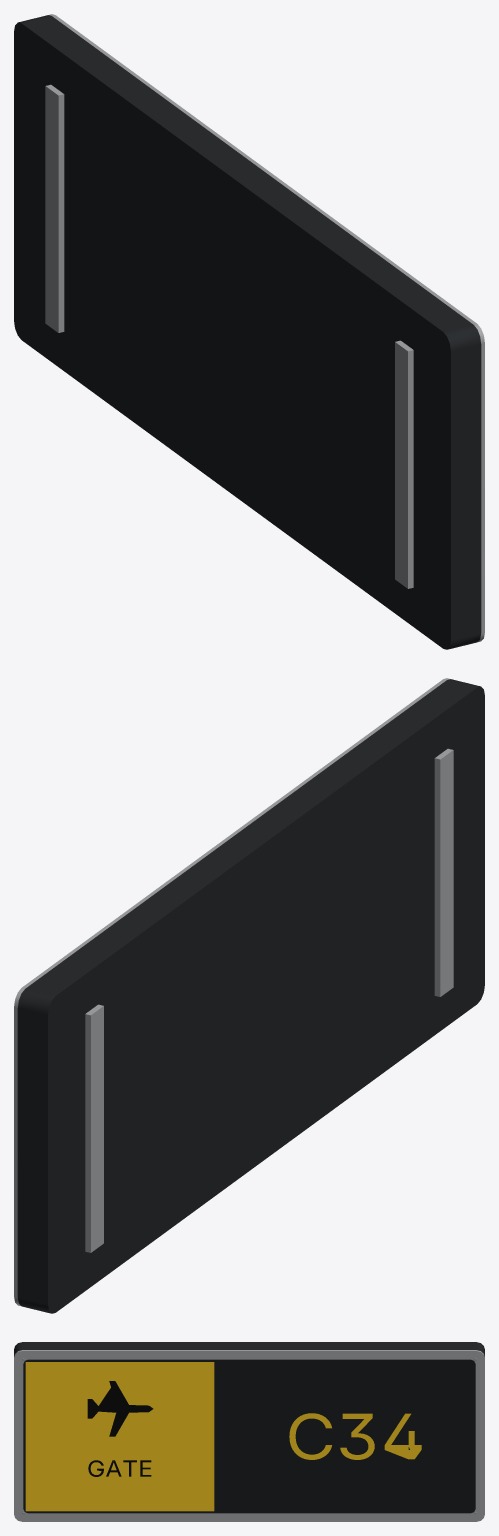
Rendered from gate_sign_c34.glb.
3 views of the same model, one above another, from view 1: azimuth 30°, elevation 25°; view 2: azimuth 150°, elevation 25°; view 3: azimuth 270°, elevation 25° (orthographic). The views are drawn at different scales.
Parts seen in each view (by area): view 1: gateschild_1, gateschild_0; view 2: gateschild_1, gateschild_0; view 3: gateschild_2, gateschild_3, gateschild_0, gateschild_1, nummer, gateschild_4, gate.
Boxes of the visible parts, x1,y1,x2,y2 form: gateschild_1: [14, 15, 481, 649]; gateschild_0: [45, 14, 484, 641]; gateschild_1: [17, 679, 484, 1313]; gateschild_0: [14, 678, 453, 1305]; gateschild_2: [23, 1359, 475, 1513]; gateschild_3: [25, 1362, 214, 1511]; gateschild_0: [14, 1350, 484, 1521]; gateschild_1: [14, 1342, 484, 1356]; nummer: [289, 1413, 421, 1459]; gateschild_4: [87, 1381, 153, 1436]; gate: [88, 1460, 151, 1476].
Bounding box in the file's own units: 0.1077 × 0.8 × 2.
